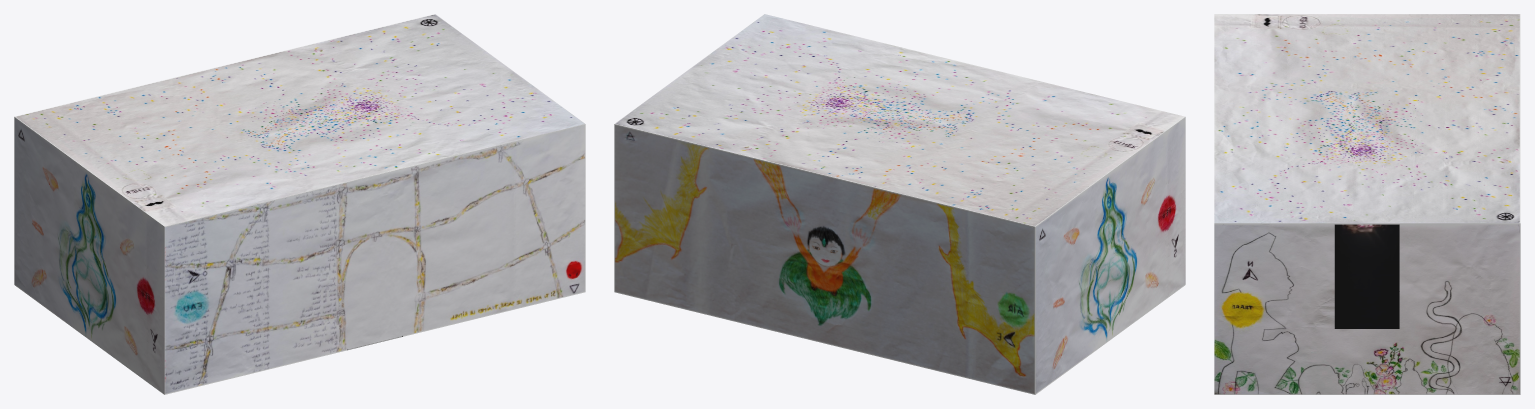
File: 1778582379898_pealoun.glb
The picture shows the model from 3 angles, left to right: view 1: azimuth 30°, elevation 25°; view 2: azimuth 150°, elevation 25°; view 3: azimuth 270°, elevation 25°; orthographic projection.
Parts seen in each view (by area): view 1: Pealoun; view 2: Pealoun; view 3: Pealoun.
Boxes of the visible parts, x1,y1,x2,y2 form: Pealoun: (14,14,585,394); Pealoun: (614,14,1185,394); Pealoun: (1214,14,1520,394).
Size of the model in its own units: 1.62 by 0.618 by 1.
Materials: 6 (6 with a texture image).
